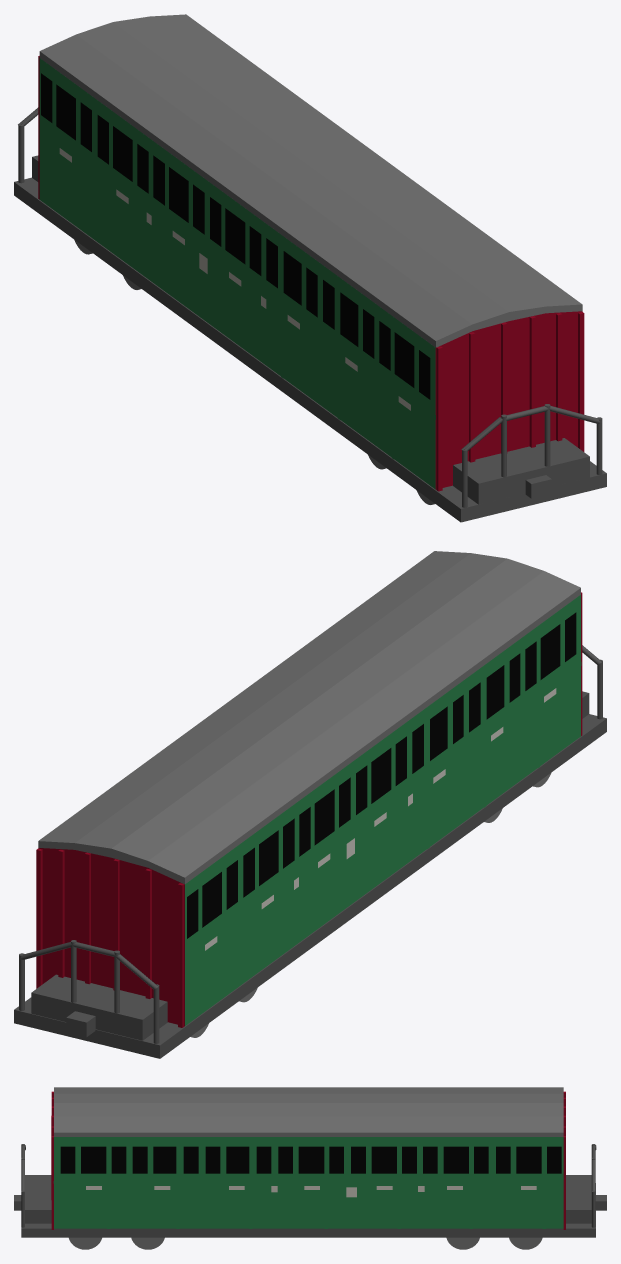
The model's file is fr-bogie-col-stephens.dae.
3 renders of one model, top to bottom at view 1: azimuth 30°, elevation 25°; view 2: azimuth 150°, elevation 25°; view 3: azimuth 270°, elevation 25°, orthographic. The views are drawn at different scales.
Parts seen in each view (by area): view 1: Cube_005, Cube_004, Plane_002, Cube_008, Plane_079, Cube_013, Cube_012, Plane_145, Plane_133, Cube_017, Cube_015, Cube_014 (+6 smaller); view 2: Cube_005, Cube_004, Plane_002, Cube_007, Plane_079, Cube_022, Cube_023, Plane_145, Plane_134, Plane_133, Cube_021, Cube_020 (+6 smaller); view 3: Cube_004, Cube_005, Plane_002, Plane_238, Cube_008, Cube_007, Plane_231, Plane_241, Plane_236, Plane_230, Plane_219, Plane_225 (+21 smaller).
Boxes of the visible parts, box(x1,y1,x2,y2) form: Cube_005: box(39, 14, 582, 347); Cube_004: box(39, 58, 582, 489); Plane_002: box(14, 177, 606, 522); Cube_008: box(453, 438, 589, 504); Plane_079: box(40, 125, 435, 419); Cube_013: box(436, 346, 442, 491); Cube_012: box(578, 312, 584, 451); Plane_145: box(394, 332, 414, 387); Plane_133: box(225, 208, 245, 264); Cube_017: box(529, 316, 535, 447); Cube_015: box(469, 332, 475, 462); Cube_014: box(556, 313, 562, 441); Cube_005: box(38, 551, 580, 884); Cube_004: box(38, 595, 580, 1026); Plane_002: box(14, 714, 606, 1058); Cube_007: box(31, 974, 167, 1040); Plane_079: box(185, 662, 581, 955); Cube_022: box(178, 883, 184, 1027); Cube_023: box(36, 848, 42, 988); Plane_145: box(540, 624, 560, 679); Plane_134: box(314, 789, 334, 845); Plane_133: box(371, 748, 391, 803); Cube_021: box(58, 849, 64, 977); Cube_020: box(145, 869, 151, 998); Cube_004: box(54, 1137, 563, 1228); Cube_005: box(54, 1087, 563, 1136); Plane_002: box(21, 1183, 595, 1237); Plane_238: box(53, 1181, 563, 1183); Cube_008: box(25, 1175, 51, 1223); Cube_007: box(566, 1175, 591, 1223); Plane_231: box(298, 1146, 324, 1173); Plane_241: box(516, 1146, 541, 1173); Plane_236: box(443, 1146, 468, 1173); Plane_230: box(371, 1146, 396, 1173); Plane_219: box(81, 1146, 106, 1173); Plane_225: box(226, 1146, 249, 1173).
Bounding box in the file's own units: 1.19 × 6.4 × 1.49.
